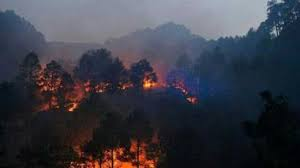fire: (68, 145, 164, 168)
smoke: (118, 3, 240, 55), (20, 2, 115, 67)
